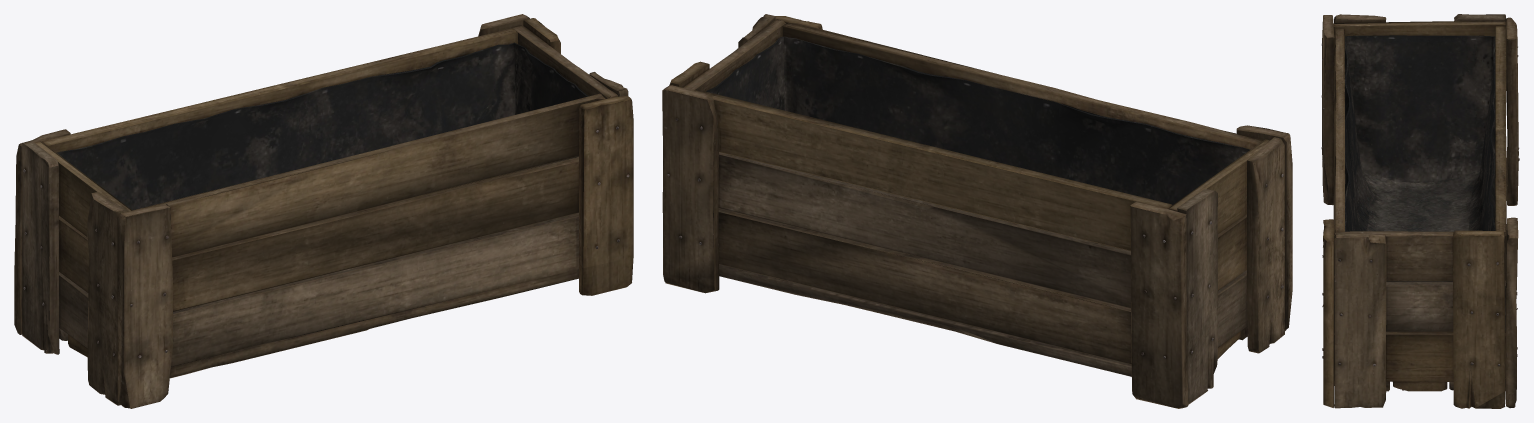
File: planter_box_02.glb
The picture shows the model from 3 angles, left to right: view 1: azimuth 30°, elevation 25°; view 2: azimuth 150°, elevation 25°; view 3: azimuth 270°, elevation 25°; orthographic projection. The views are drawn at different scales.
Visible parts, largest first — view 1: planter_box_02; view 2: planter_box_02; view 3: planter_box_02.
Part boxes in pixels (left/top/right/bottom): planter_box_02: left=14, top=14, right=633, bottom=408; planter_box_02: left=662, top=14, right=1292, bottom=408; planter_box_02: left=1321, top=14, right=1519, bottom=408.
Size of the model in its own units: 1.25 by 0.4535 by 0.4673.
1 material, 1 textured.
